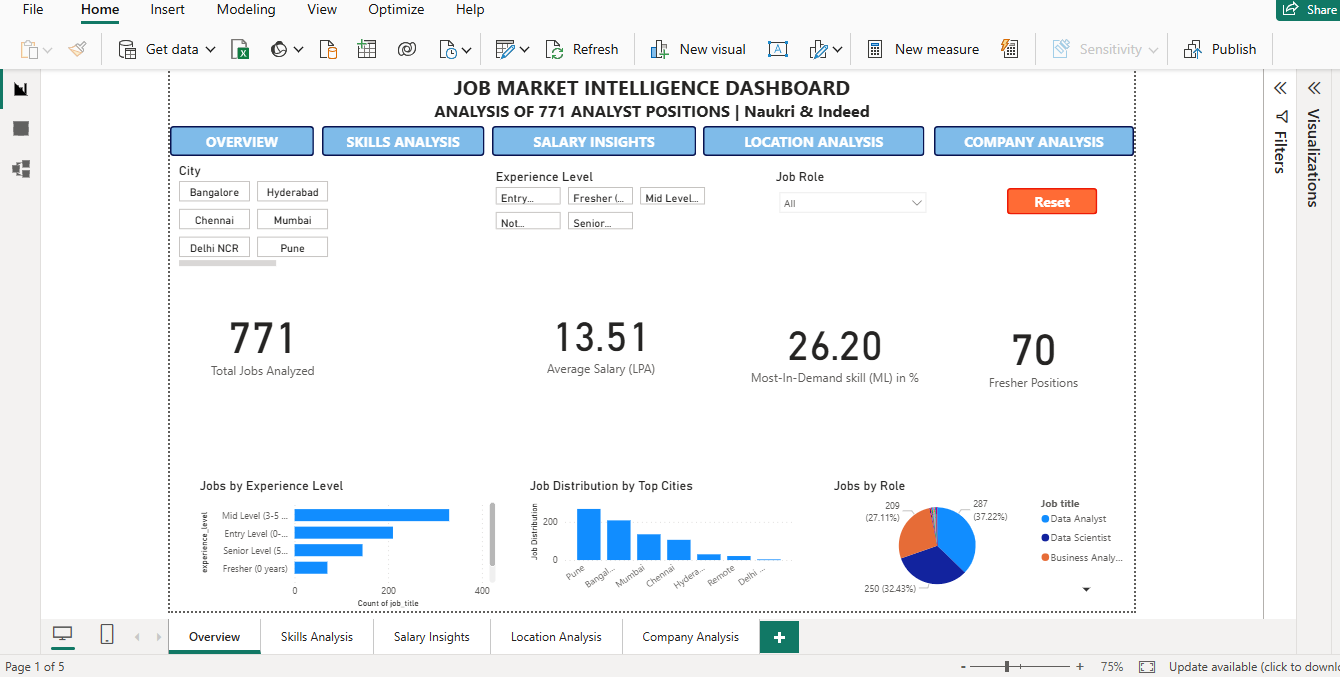

What the dashboard file says about the page in this screenshot:
{"tool":"powerbi","page":{"name":"Overview","canvas":[1280,720],"ordinal":0},"visuals":[{"type":"card","fields":{"Values":["CountNonNull(cleaned_jobs.job_title)"]},"box":[33.7,292.7,180,134.6],"z":0},{"type":"card","fields":{"Values":["Avg(cleaned_jobs.salary_avg_lpa)"]},"box":[484.4,304.4,175.6,109.8],"z":1000},{"type":"textbox","box":[10,570,280,150],"z":2000},{"type":"card","fields":{"Values":["CountNonNull(cleaned_jobs.experience_level)"]},"box":[1047.8,313.2,197.6,124.4],"z":3000},{"type":"pieChart","title":"Jobs by Role","fields":{"Category":["cleaned_jobs.job_title_clean"],"Y":["CountNonNull(cleaned_jobs.job_title_clean)"]},"box":[876.6,542.9,403.9,161],"z":4000},{"type":"clusteredBarChart","title":"Jobs by Experience Level","fields":{"Category":["cleaned_jobs.experience_level"],"Y":["CountNonNull(cleaned_jobs.job_title)"]},"box":[34.3,542.9,402.9,177.1],"z":5000},{"type":"advancedSlicerVisual","title":"City","fields":{"Values":["cleaned_jobs.primary_city"]},"box":[0,124.4,225.4,159.5],"z":6000},{"type":"advancedSlicerVisual","title":"Experience Level","fields":{"Values":["cleaned_jobs.experience_level"]},"box":[427.3,115.6,288.3,120],"z":7000},{"type":"slicer","title":"Job Role","fields":{"Values":["cleaned_jobs.job_title_clean"]},"box":[799,115.6,215.1,99.5],"z":8000},{"type":"textbox","box":[0,0,1280.5,96.6],"z":9000},{"type":"actionButton","box":[201.4,76.1,215.7,40],"z":9000,"group":"g1"},{"type":"actionButton","box":[427.1,76.1,271.4,40],"z":10000,"group":"g1"},{"type":"actionButton","box":[1112.2,158,120,35.1],"z":10000},{"type":"group","id":"g1","title":"Group 1","box":[0,76.1,1280.5,39.5],"z":11000},{"type":"actionButton","box":[708.6,76.1,294.3,40],"z":11000,"group":"g1"},{"type":"actionButton","box":[1014.3,76.1,265.7,40],"z":12000,"group":"g1"},{"type":"card","fields":{"Values":["Max(Skills_Summary.Percentage)"]},"box":[763.9,304.4,238.5,133.2],"z":12000},{"type":"actionButton","box":[0,76.1,191.4,40],"z":13000,"group":"g1"},{"type":"clusteredColumnChart","fields":{"Category":["cleaned_jobs.primary_city"],"Y":["CountNonNull(cleaned_jobs.job_title_clean)"]},"box":[472.7,542.9,360,161],"z":13000}]}

Visuals, with their boxes on the page's 1280x720 design canvas (x1, y1, x2, y2). These are canvas units, not pixel positions in the 1340x677 screenshot, which may show the page scaled, cropped or inside an application window:
card - CountNonNull(cleaned_jobs.job_title): bbox(34, 293, 214, 427)
card - Avg(cleaned_jobs.salary_avg_lpa): bbox(484, 304, 660, 414)
textbox: bbox(10, 570, 290, 720)
card - CountNonNull(cleaned_jobs.experience_level): bbox(1048, 313, 1245, 438)
"Jobs by Role" pieChart: bbox(877, 543, 1280, 704)
"Jobs by Experience Level" clusteredBarChart: bbox(34, 543, 437, 720)
"City" advancedSlicerVisual: bbox(0, 124, 225, 284)
"Experience Level" advancedSlicerVisual: bbox(427, 116, 716, 236)
"Job Role" slicer: bbox(799, 116, 1014, 215)
textbox: bbox(0, 0, 1280, 97)
actionButton: bbox(201, 76, 417, 116)
actionButton: bbox(427, 76, 698, 116)
actionButton: bbox(1112, 158, 1232, 193)
"Group 1" group: bbox(0, 76, 1280, 116)
actionButton: bbox(709, 76, 1003, 116)
actionButton: bbox(1014, 76, 1280, 116)
card - Max(Skills_Summary.Percentage): bbox(764, 304, 1002, 438)
actionButton: bbox(0, 76, 191, 116)
clusteredColumnChart - cleaned_jobs.primary_city x CountNonNull(cleaned_jobs.job_title_clean): bbox(473, 543, 833, 704)
